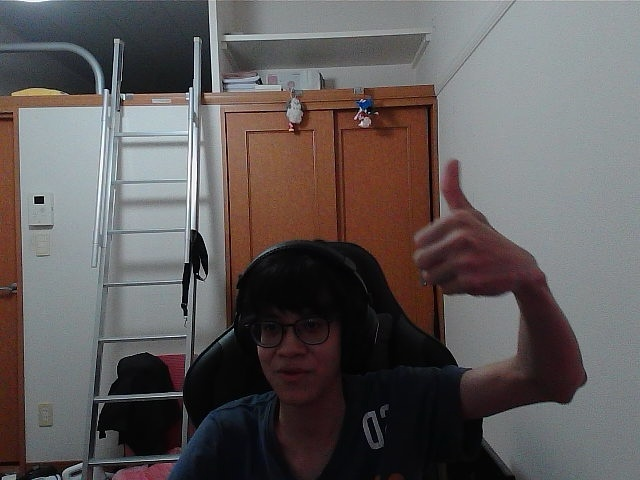thumb_up: (423, 171, 519, 288)
